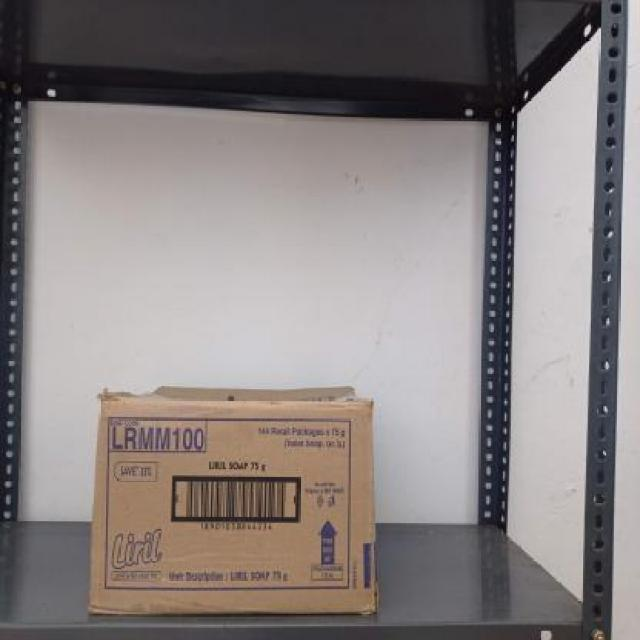box: (92, 397, 380, 614)
